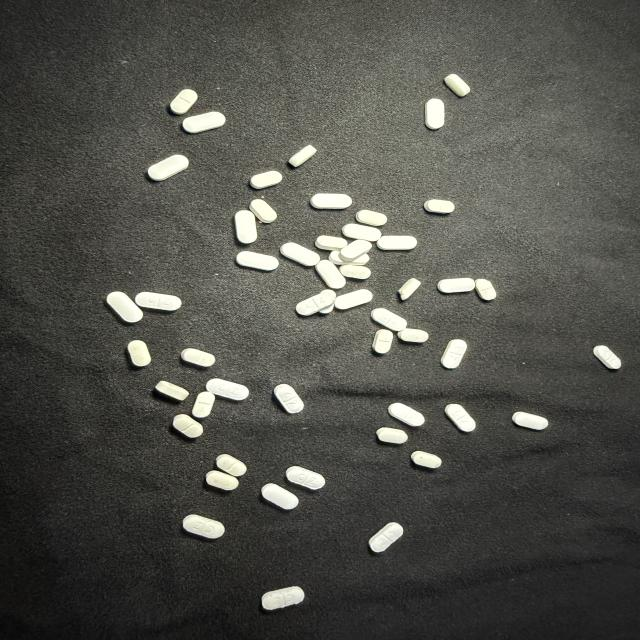pill: (107, 292, 142, 323), (148, 155, 188, 181), (369, 523, 403, 552), (296, 290, 335, 315), (182, 112, 226, 134), (262, 587, 304, 610), (183, 515, 224, 538), (261, 484, 298, 509), (280, 243, 320, 266), (206, 379, 249, 400), (286, 466, 325, 489), (135, 292, 181, 311), (316, 260, 346, 289), (274, 384, 304, 413), (388, 403, 424, 426), (371, 308, 407, 331), (236, 251, 279, 270), (445, 404, 475, 431), (441, 339, 467, 368), (335, 289, 372, 309), (339, 240, 372, 262), (235, 210, 257, 243), (173, 414, 203, 438), (342, 224, 381, 242), (155, 381, 189, 401), (216, 454, 246, 476), (170, 90, 197, 114), (512, 412, 548, 430), (250, 199, 277, 223), (206, 470, 238, 490), (310, 194, 352, 209), (594, 346, 621, 369), (289, 145, 317, 167), (181, 348, 215, 366), (128, 340, 150, 367), (250, 171, 282, 189), (329, 251, 370, 265), (192, 392, 214, 418), (425, 99, 444, 129), (377, 236, 417, 250), (438, 278, 475, 293), (445, 74, 470, 96), (411, 451, 441, 468), (356, 210, 387, 226), (399, 278, 421, 300), (373, 330, 393, 354), (377, 427, 407, 443), (315, 236, 347, 251), (475, 279, 496, 300), (340, 265, 371, 279), (398, 329, 428, 343), (424, 200, 454, 214), (319, 304, 334, 314)
